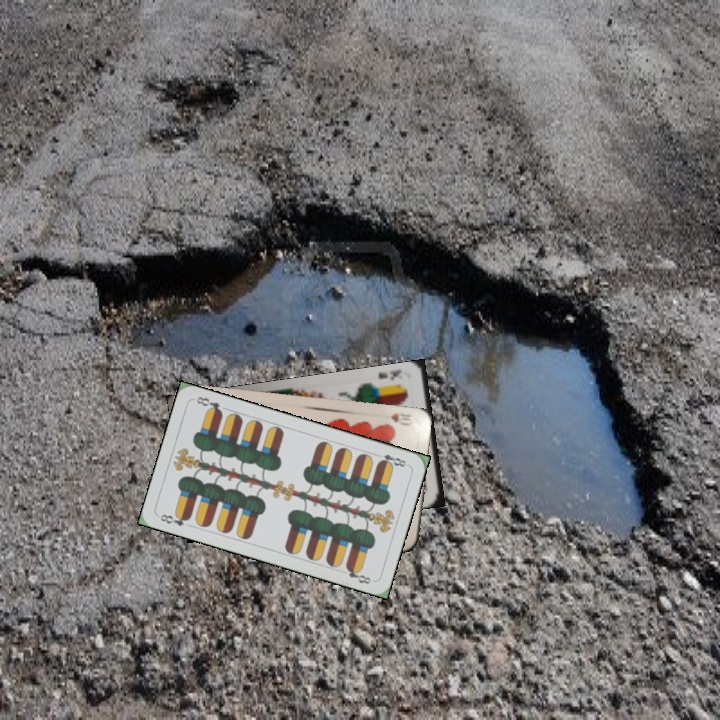E8: (371, 449, 411, 470), (156, 509, 193, 529)
EK: (374, 366, 404, 383)
H10: (387, 409, 416, 428)
